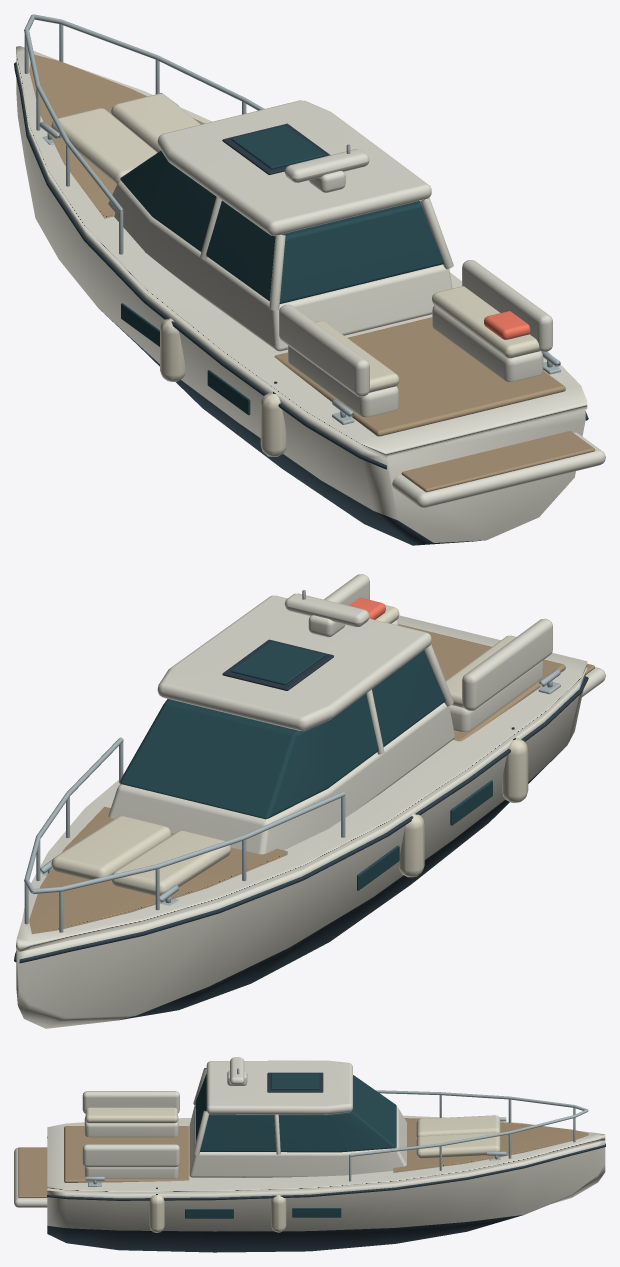
The model's file is city_moored_yachts_01.glb.
3 views of the same model, one above another, from view 1: azimuth 30°, elevation 25°; view 2: azimuth 150°, elevation 25°; view 3: azimuth 270°, elevation 25° (orthographic). The views are drawn at different scales.
Visible parts, largest first — view 1: CityMooredYachts01_Mesh; view 2: CityMooredYachts01_Mesh; view 3: CityMooredYachts01_Mesh.
Boxes of the visible parts, x1=… form: CityMooredYachts01_Mesh: x1=14, y1=14, x2=605, y2=545; CityMooredYachts01_Mesh: x1=14, y1=574, x2=605, y2=1028; CityMooredYachts01_Mesh: x1=14, y1=1057, x2=605, y2=1252.
Bounding box in the file's own units: 3.8 × 4.1 × 12.41.
